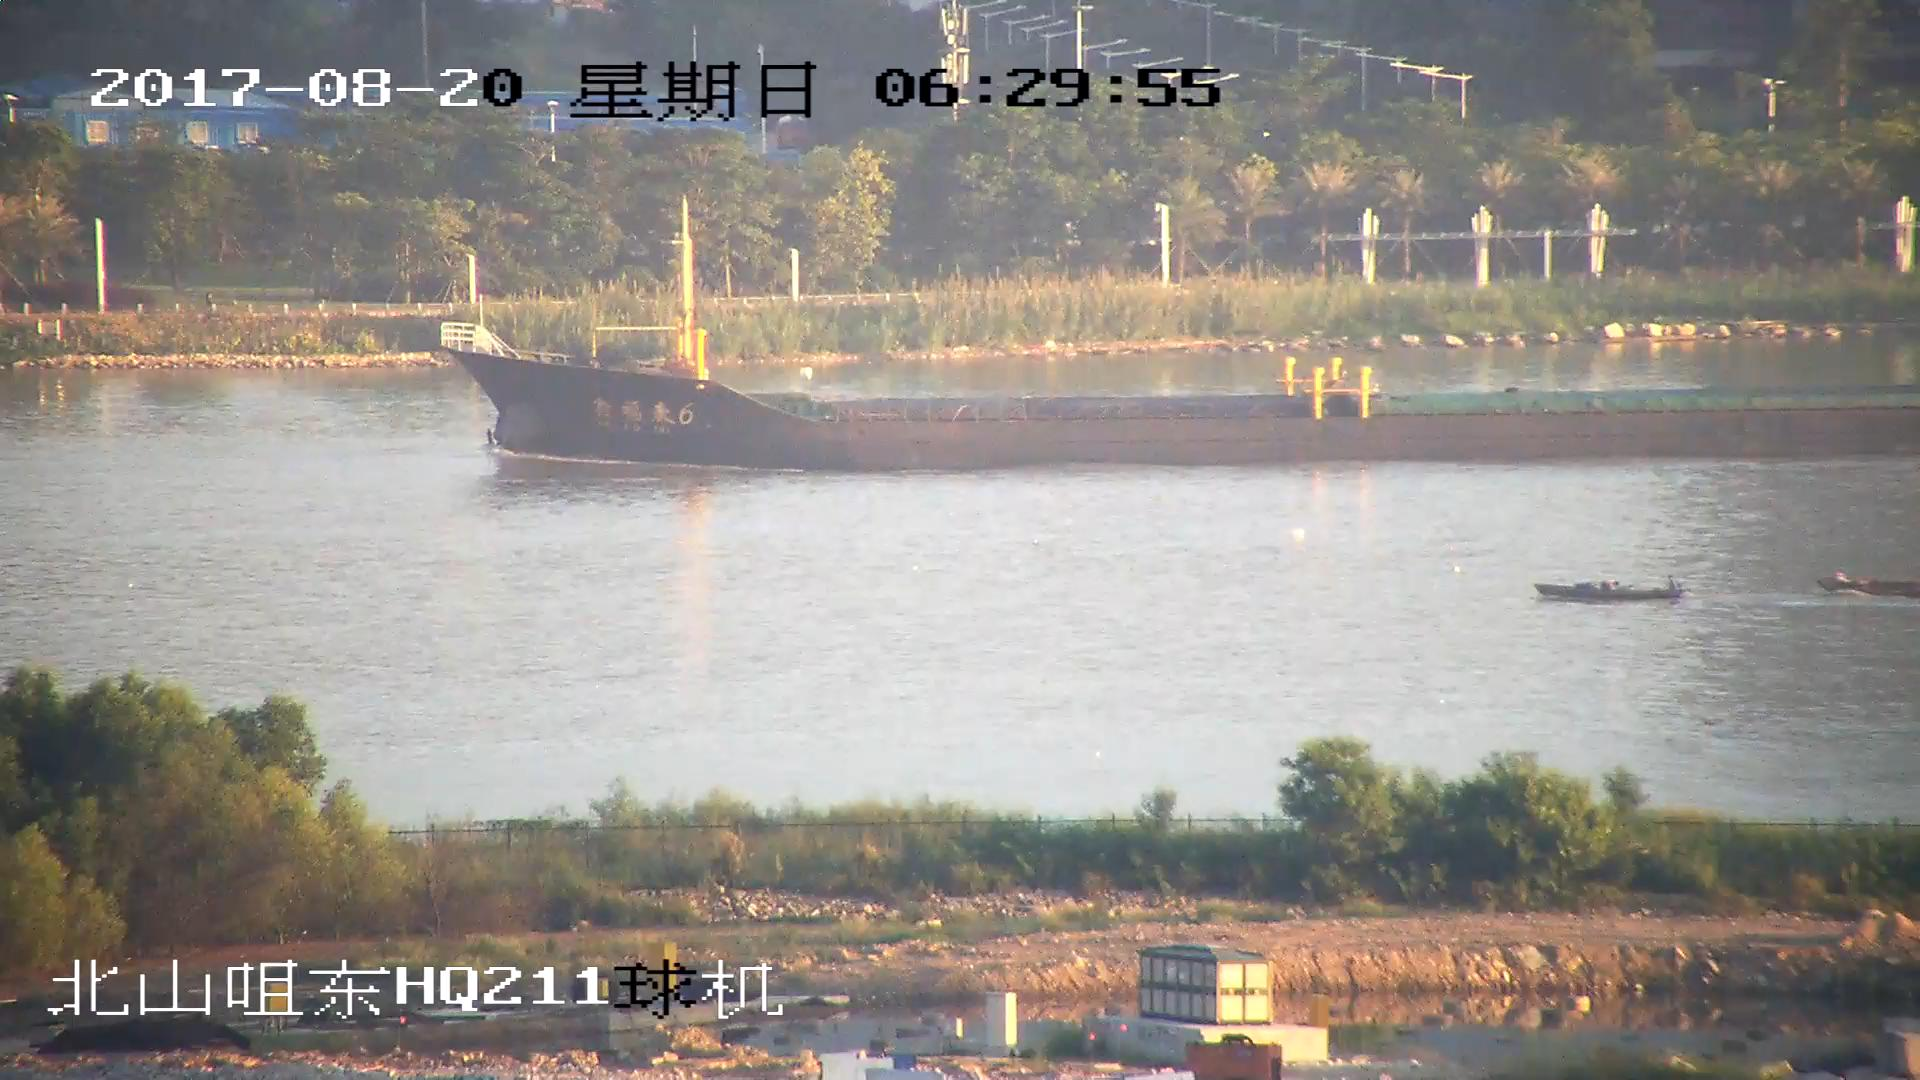fishing boat: (1539, 576, 1681, 606), (1825, 562, 1920, 601)
general cargo ship: (439, 232, 1920, 470)
